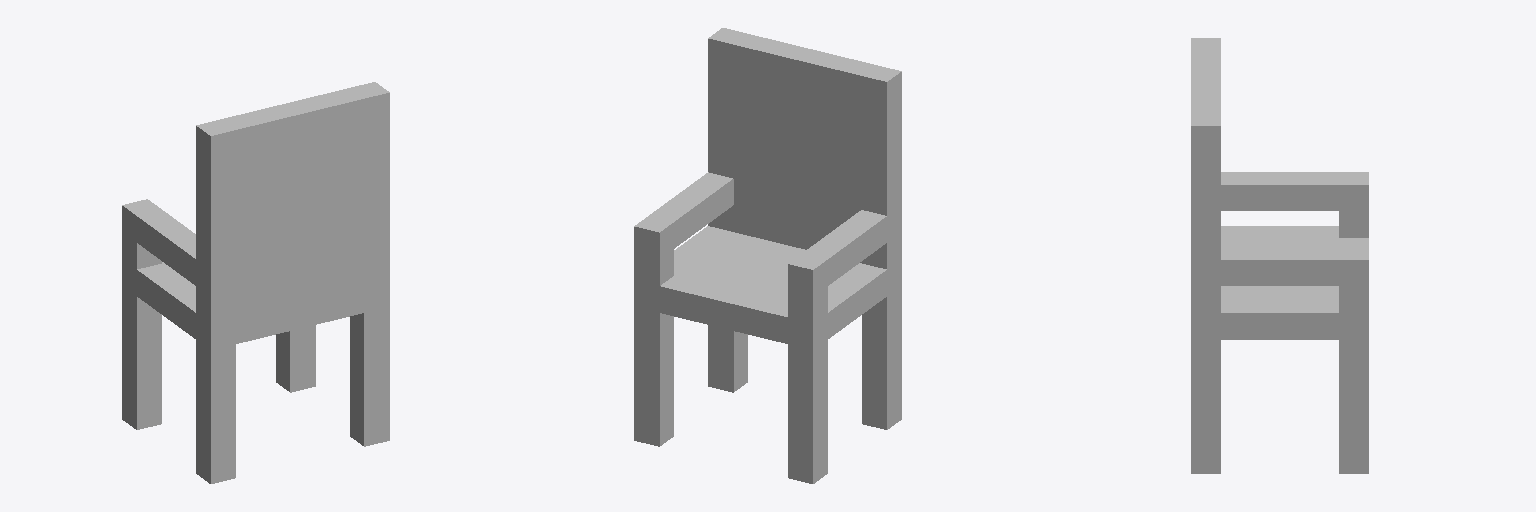
Rendered from chair.obj.
3 views of the same model, side by side, from view 1: azimuth 30°, elevation 25°; view 2: azimuth 150°, elevation 25°; view 3: azimuth 270°, elevation 25° (orthographic).
Parts seen in each view (by area): view 1: object 1; view 2: object 1; view 3: object 1.
Boxes of the visible parts, box(x1,y1,x2,y2) form: object 1: box(122, 82, 389, 483); object 1: box(634, 28, 901, 483); object 1: box(1191, 38, 1368, 473).
Size of the model in its own units: 0.7 by 1.3 by 0.6.